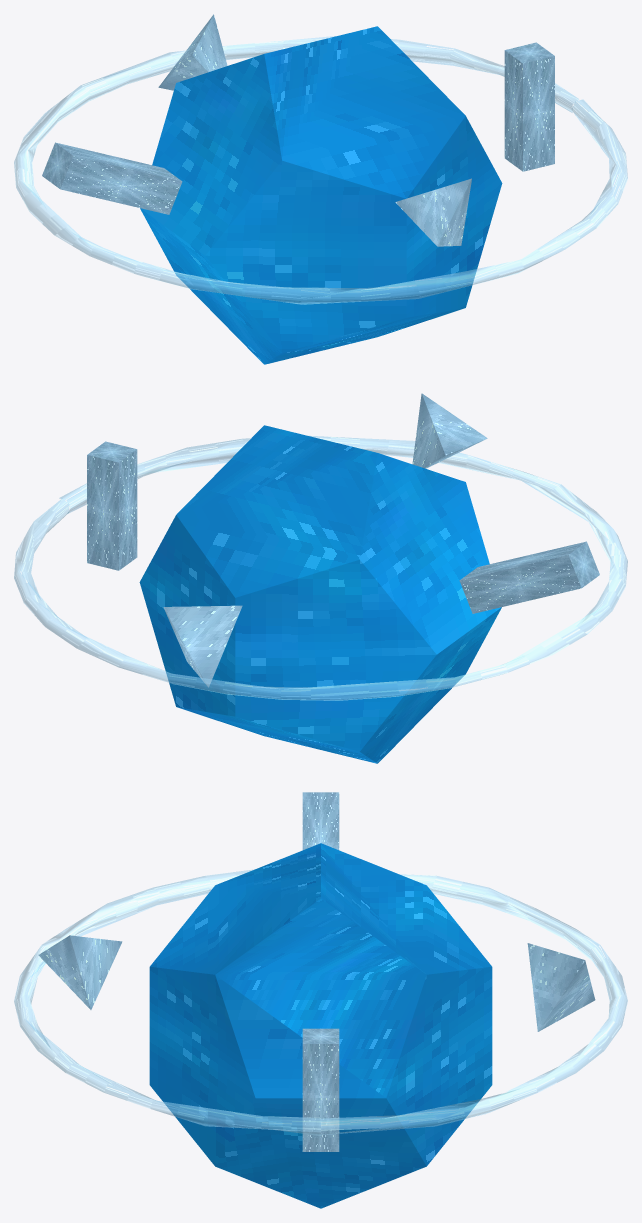
File: sci-fi-anomaly-c.collider.glb
3 views of the same model, one above another, from view 1: azimuth 30°, elevation 25°; view 2: azimuth 150°, elevation 25°; view 3: azimuth 270°, elevation 25° (orthographic).
Parts seen in each view (by area): view 1: shell, ring, orbital-0; view 2: shell, orbital-0, ring; view 3: shell, ring, orbital-0.
Boxes of the visible parts, x1,y1,x2,y2 form: shell: (140,26,502,364); ring: (14,36,627,304); orbital-0: (42,14,554,246); shell: (139,425,501,763); orbital-0: (87,393,599,687); ring: (14,435,627,700); shell: (149,843,492,1208); ring: (14,869,627,1135); orbital-0: (38,792,595,1151).
Size of the model in its own units: 2.7 by 1.49 by 2.68.
Materials: 3 (3 with a texture image).
